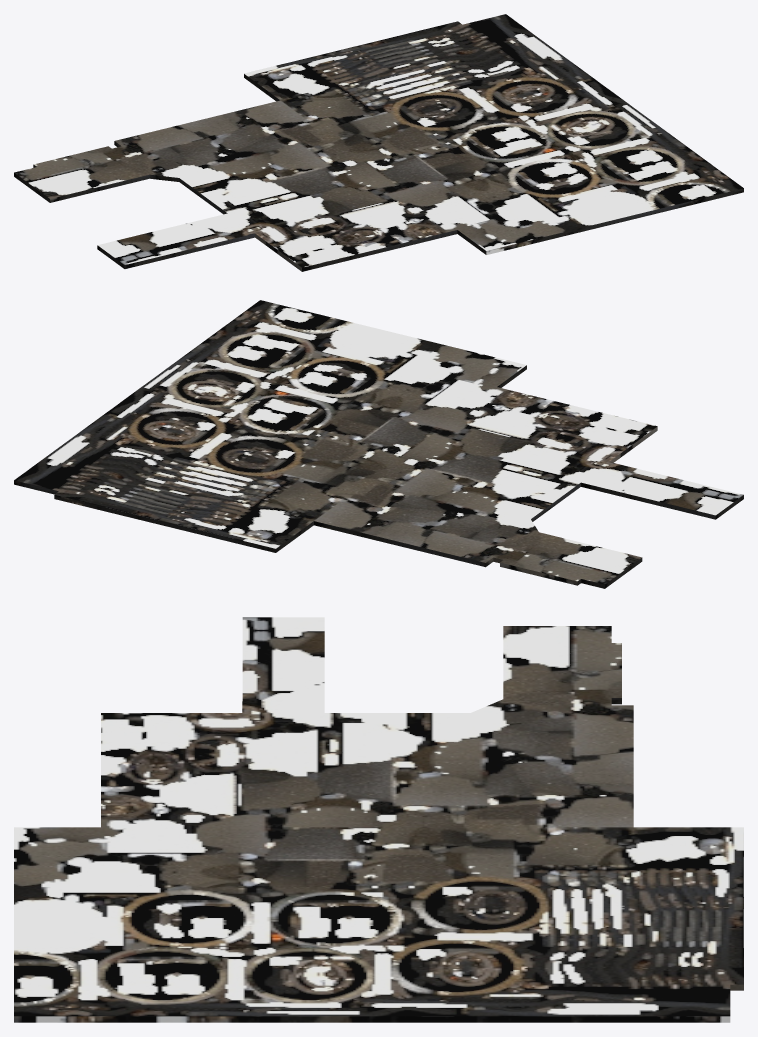
The model's file is hotelhamilton_9.obj.
3 renders of one model, top to bottom at view 1: azimuth 30°, elevation 25°; view 2: azimuth 150°, elevation 25°; view 3: azimuth 270°, elevation 25°, orthographic. The views are drawn at different scales.
Size of the model in its own units: 13.85 by 0.1 by 10.71.
